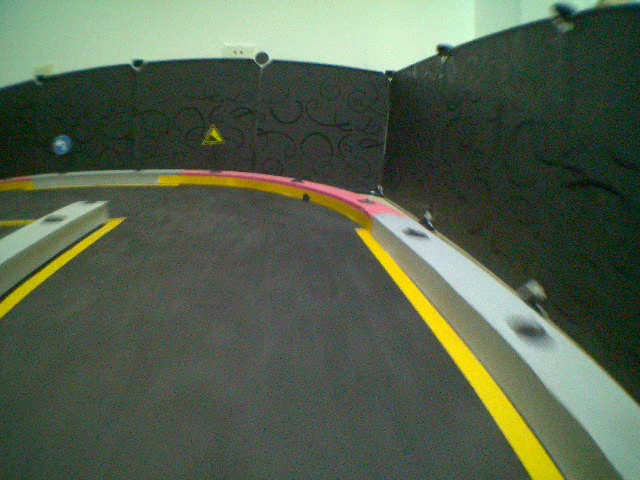fast: (200, 122, 225, 145)
turn: (51, 133, 69, 155)
